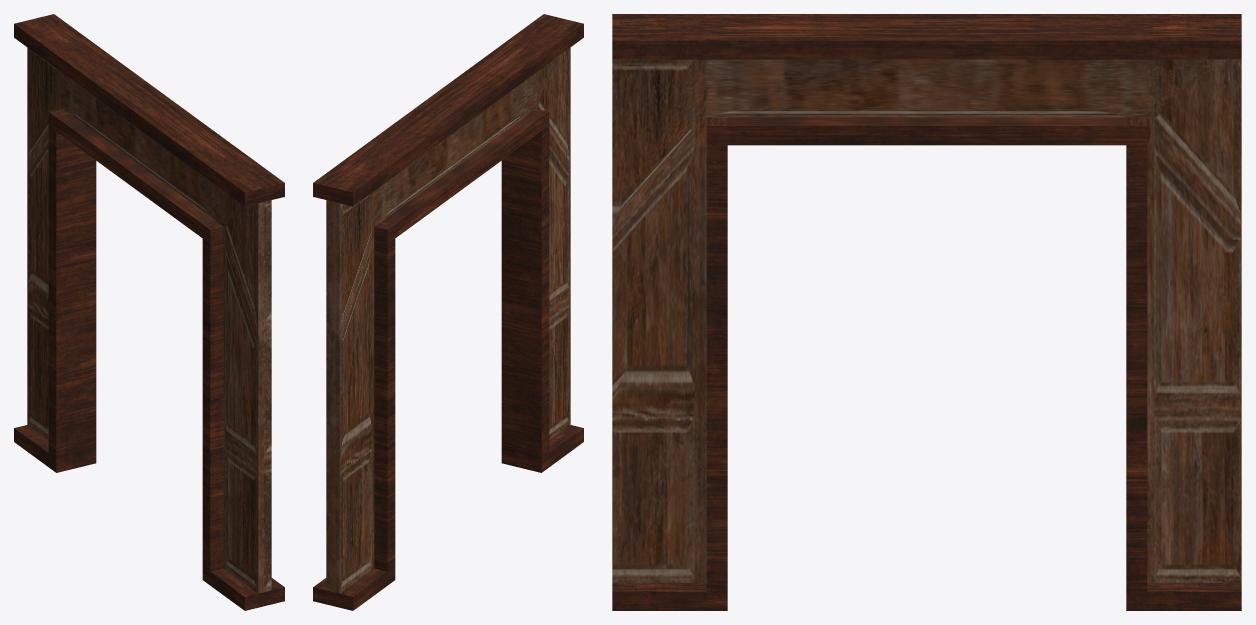
File: doorway 2.fbx
The picture shows the model from 3 angles, left to right: view 1: azimuth 30°, elevation 25°; view 2: azimuth 150°, elevation 25°; view 3: azimuth 270°, elevation 25°; orthographic projection. The views are drawn at different scales.
Parts seen in each view (by area): view 1: polySurface120; view 2: polySurface120; view 3: polySurface120.
Part boxes in pixels (<box>): polySurface120: <box>14,14,284,610</box>; polySurface120: <box>313,14,583,610</box>; polySurface120: <box>612,14,1241,610</box>.
Size of the model in its own units: 30 by 300 by 300.
Materials: 2 (2 with a texture image).
